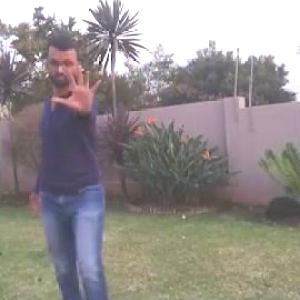follow_hand: (49, 62, 104, 117)
